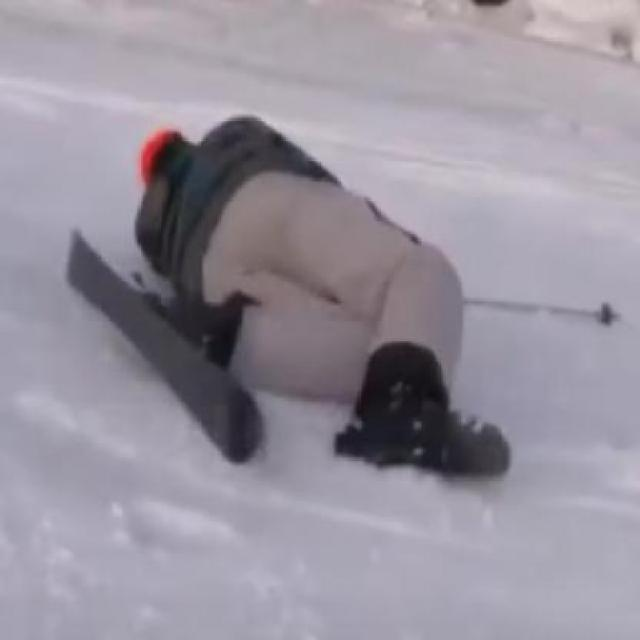fall: (131, 111, 514, 484)
